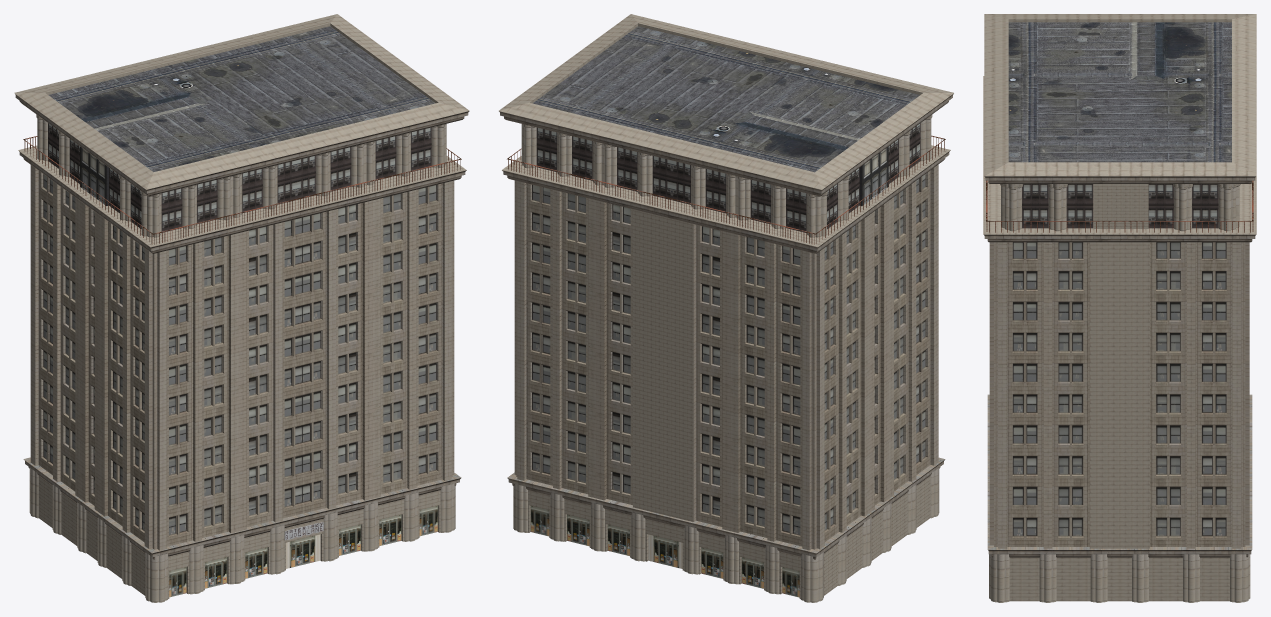
File: Building_A14.obj
3 renders of one model, left to right at view 1: azimuth 30°, elevation 25°; view 2: azimuth 150°, elevation 25°; view 3: azimuth 270°, elevation 25°, orthographic. The views are drawn at different scales.
Visible parts, largest first — view 1: K_Building_A14_00; view 2: K_Building_A14_00; view 3: K_Building_A14_00.
Part boxes in pixels (bbox=[...]): K_Building_A14_00: bbox=[14, 14, 469, 602]; K_Building_A14_00: bbox=[499, 14, 953, 602]; K_Building_A14_00: bbox=[983, 14, 1256, 602].
Bounding box in the file's own units: 30.56 × 38.18 × 21.74.
